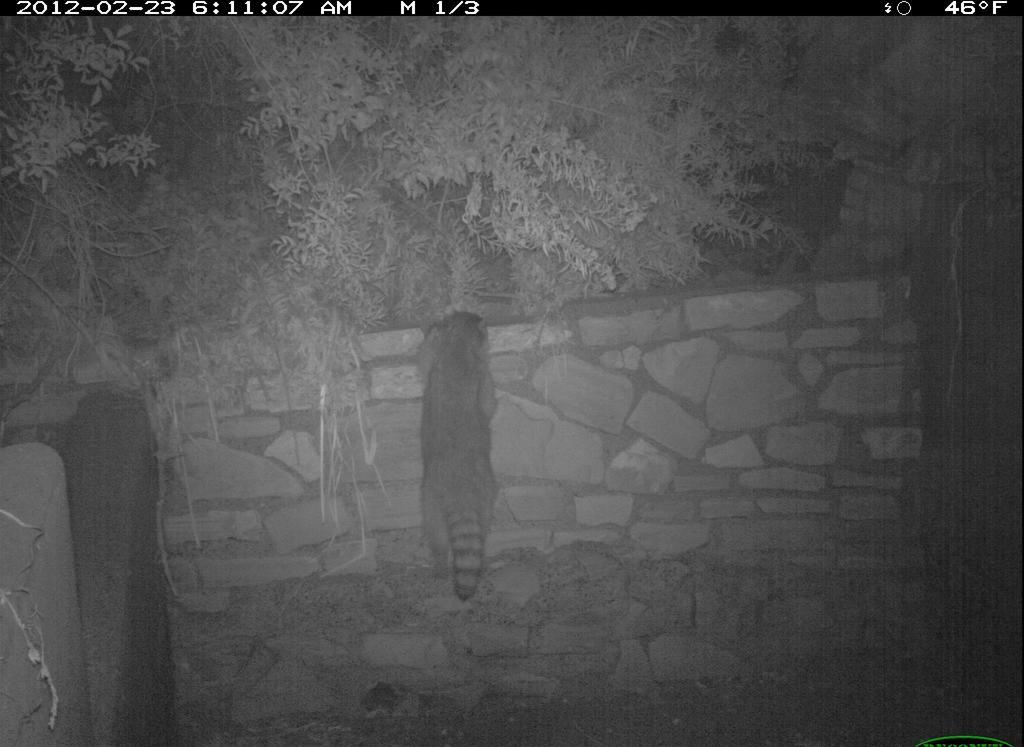raccoon: (408, 303, 513, 610)
